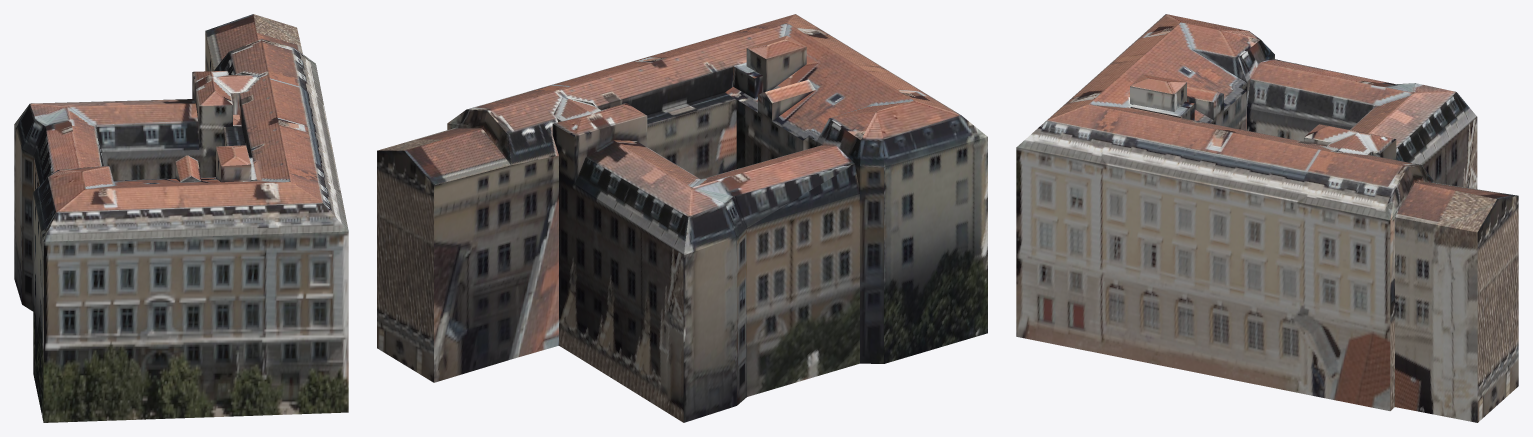
3 renders of one model, left to right at view 1: azimuth 30°, elevation 25°; view 2: azimuth 150°, elevation 25°; view 3: azimuth 270°, elevation 25°, orthographic. The views are drawn at different scales.
Visible parts, largest first — view 1: Z_UP; view 2: Z_UP; view 3: Z_UP.
Boxes of the visible parts, bbox=[...] form: Z_UP: bbox=[14, 14, 348, 422]; Z_UP: bbox=[377, 14, 987, 422]; Z_UP: bbox=[1016, 14, 1518, 422].
Bounding box in the file's own units: 51.47 × 26.81 × 52.43.
2 materials, 1 textured.
